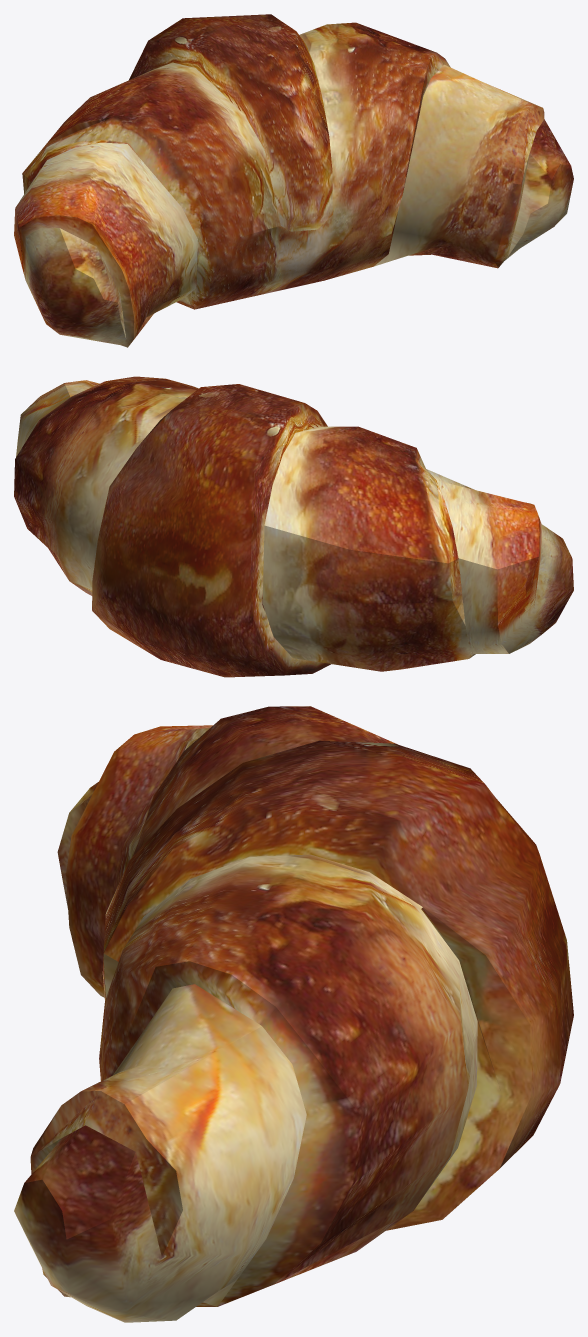
File: Brioche.FBX
3 renders of one model, top to bottom at view 1: azimuth 30°, elevation 25°; view 2: azimuth 150°, elevation 25°; view 3: azimuth 270°, elevation 25°, orthographic. The views are drawn at different scales.
Parts seen in each view (by area): view 1: brioche; view 2: brioche; view 3: brioche.
Part boxes in pixels (x1,y1,x2,y2): brioche: [14, 14, 573, 347]; brioche: [14, 376, 573, 677]; brioche: [14, 706, 573, 1322].
Bounding box in the file's own units: 32.44 × 14.64 × 17.95.
Materials: 1 (1 with a texture image).
